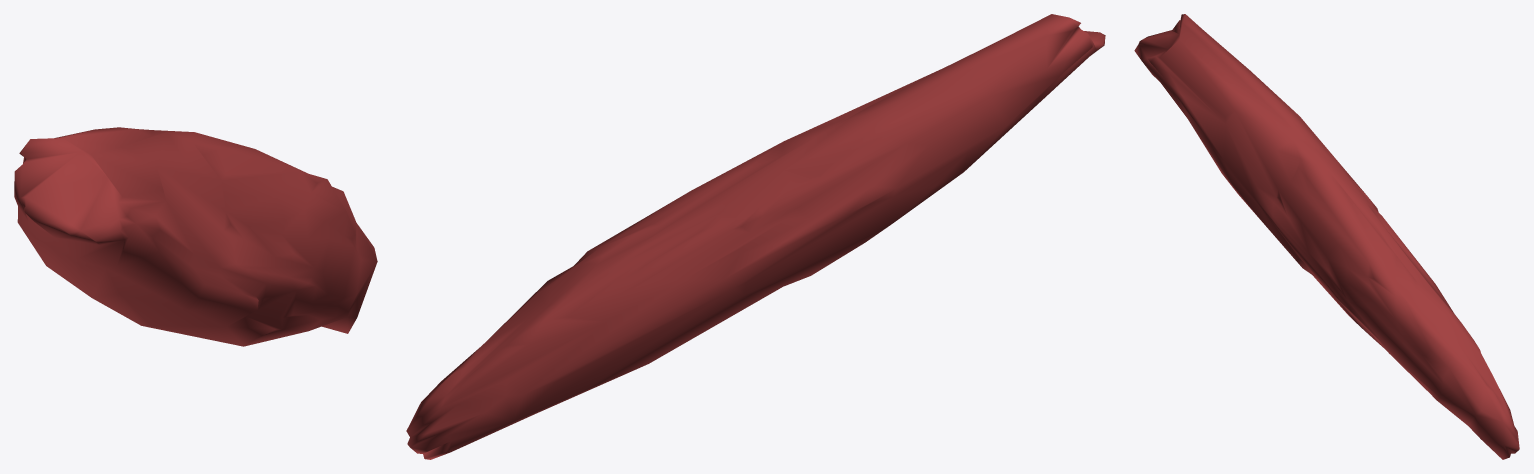
Rendered from obliquus-inferior-capitis-muscle-r.glb.
The picture shows the model from 3 angles, left to right: view 1: azimuth 30°, elevation 25°; view 2: azimuth 150°, elevation 25°; view 3: azimuth 270°, elevation 25°; orthographic projection. The views are drawn at different scales.
Visible parts, largest first — view 1: Obliquus inferior capitis muscle.r; view 2: Obliquus inferior capitis muscle.r; view 3: Obliquus inferior capitis muscle.r.
Boxes of the visible parts, x1,y1,x2,y2 form: Obliquus inferior capitis muscle.r: [14, 127, 377, 346]; Obliquus inferior capitis muscle.r: [406, 14, 1105, 459]; Obliquus inferior capitis muscle.r: [1134, 14, 1519, 459].
Bounding box in the file's own units: 0.0387 × 0.0315 × 0.0378.
